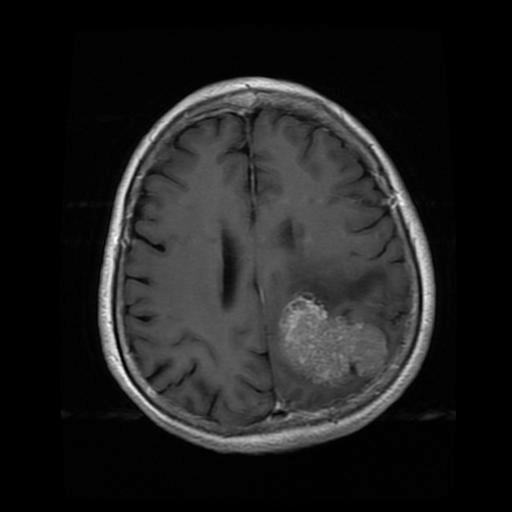Tumour-Meningioma: (259, 278, 394, 394)
